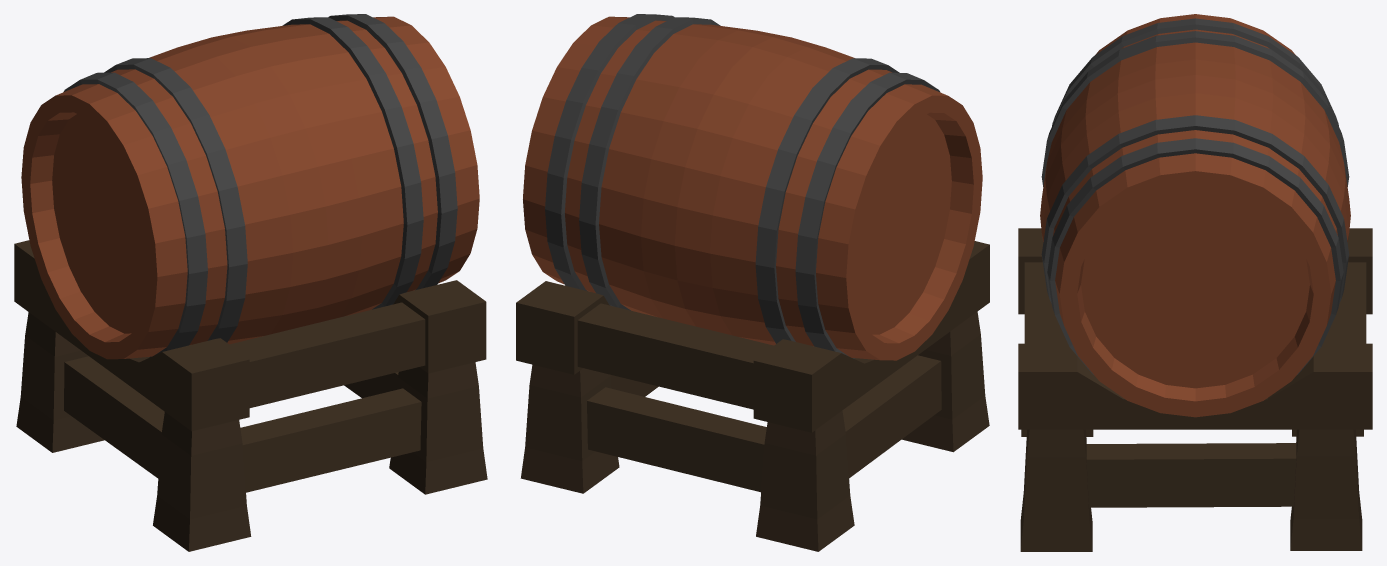
Rendered from BarrelStand.fbx.
3 views of the same model, side by side, from view 1: azimuth 30°, elevation 25°; view 2: azimuth 150°, elevation 25°; view 3: azimuth 270°, elevation 25° (orthographic).
Parts seen in each view (by area): view 1: Barrel Stand; view 2: Barrel Stand; view 3: Barrel Stand.
Boxes of the visible parts, x1,y1,x2,y2 form: Barrel Stand: (14, 14, 487, 551); Barrel Stand: (516, 14, 989, 551); Barrel Stand: (1018, 14, 1372, 551).
Size of the model in its own units: 195 by 234 by 186.
